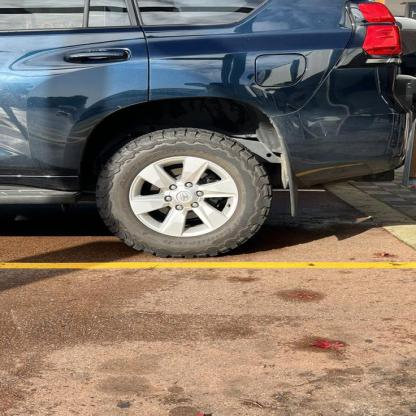Tire: (96, 127, 272, 259)
